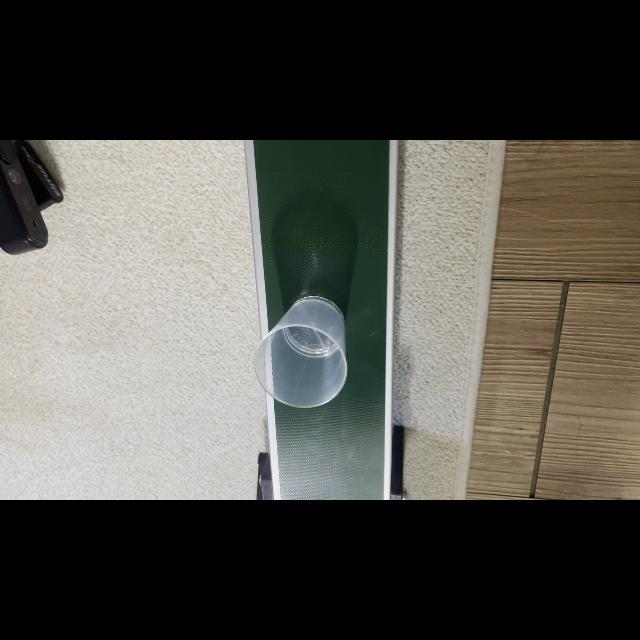clean: (264, 300, 342, 404)
